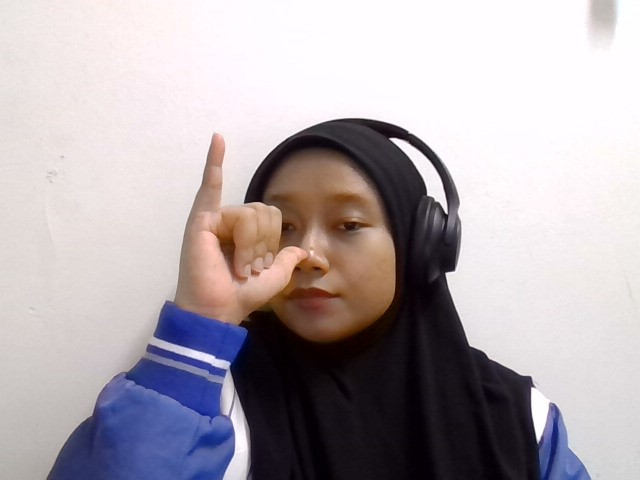BadakSumbu: (177, 132, 342, 315)
